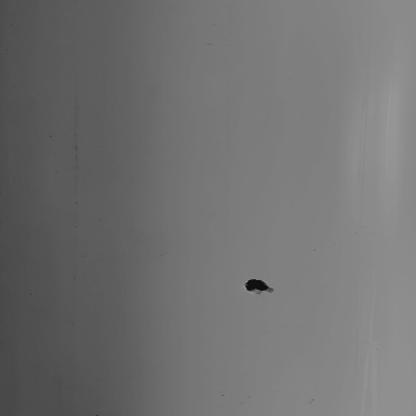kongdong: (228, 263, 273, 303)
